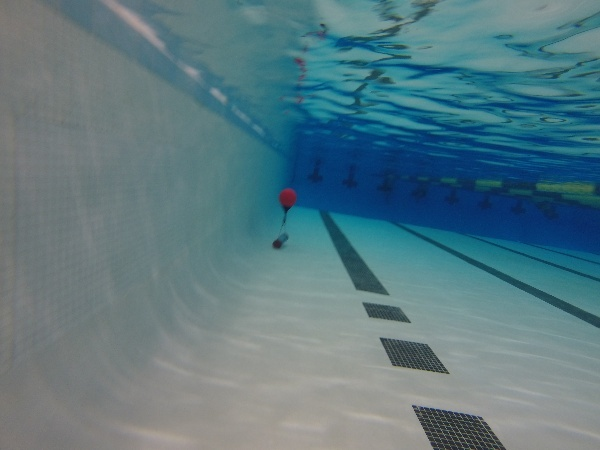buoy_red: (275, 186, 299, 215)
